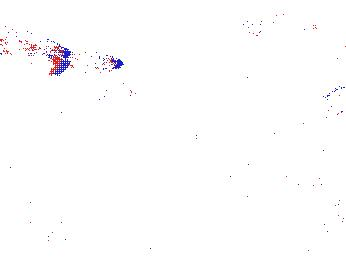X-ray fish: (92, 75, 143, 120)
glassfish: (171, 125, 275, 173)
redtail glassfish: (1, 28, 71, 63), (46, 47, 125, 78), (241, 15, 318, 45)
